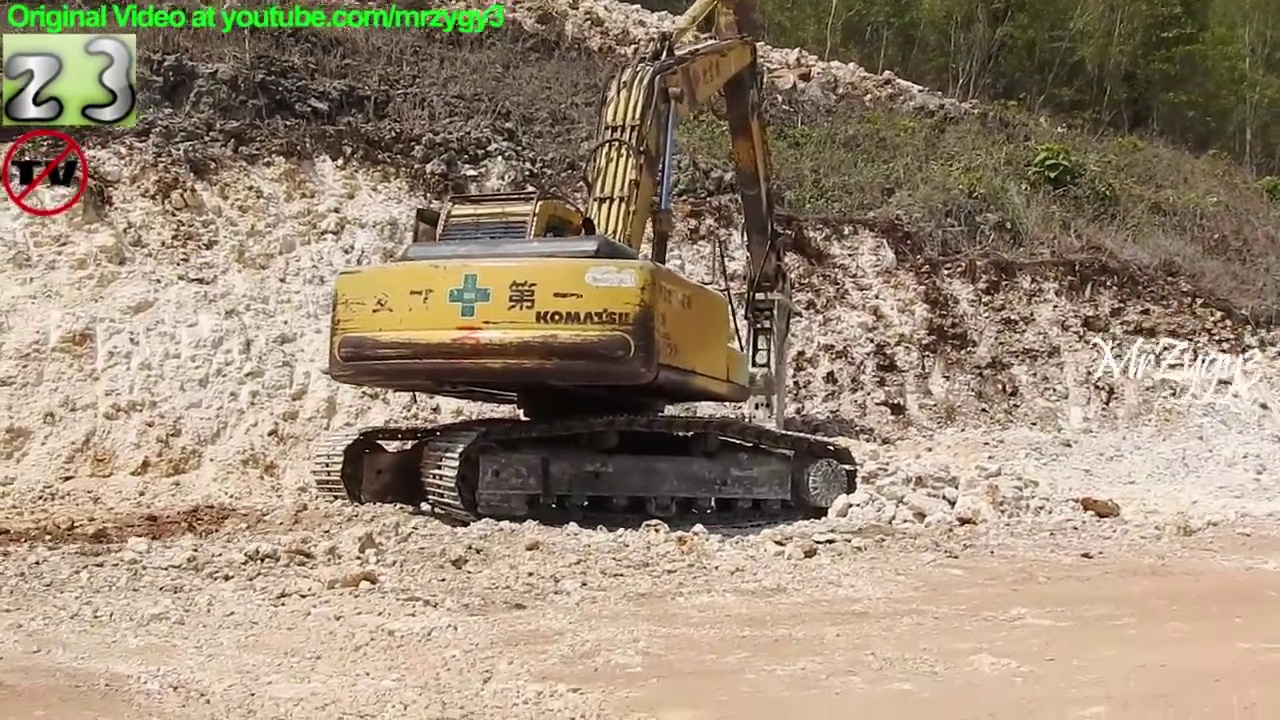excavator breaker: (305, 1, 875, 543)
